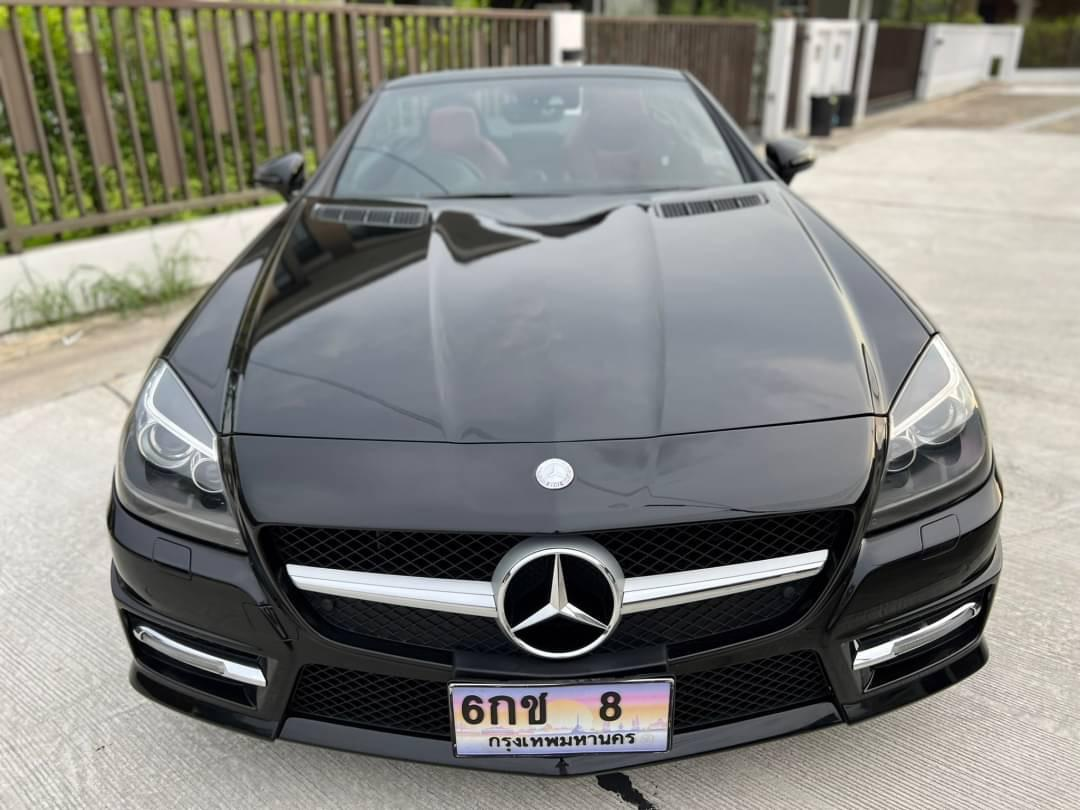license-plate: (437, 670, 687, 769)
